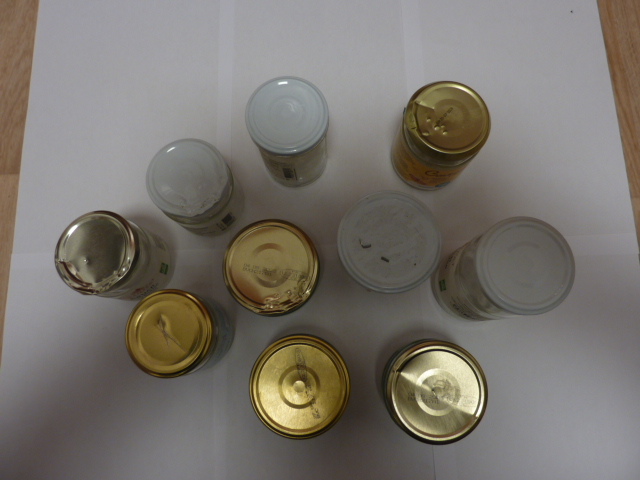damaged: (383, 340, 489, 446), (335, 190, 443, 292), (54, 209, 140, 295)
